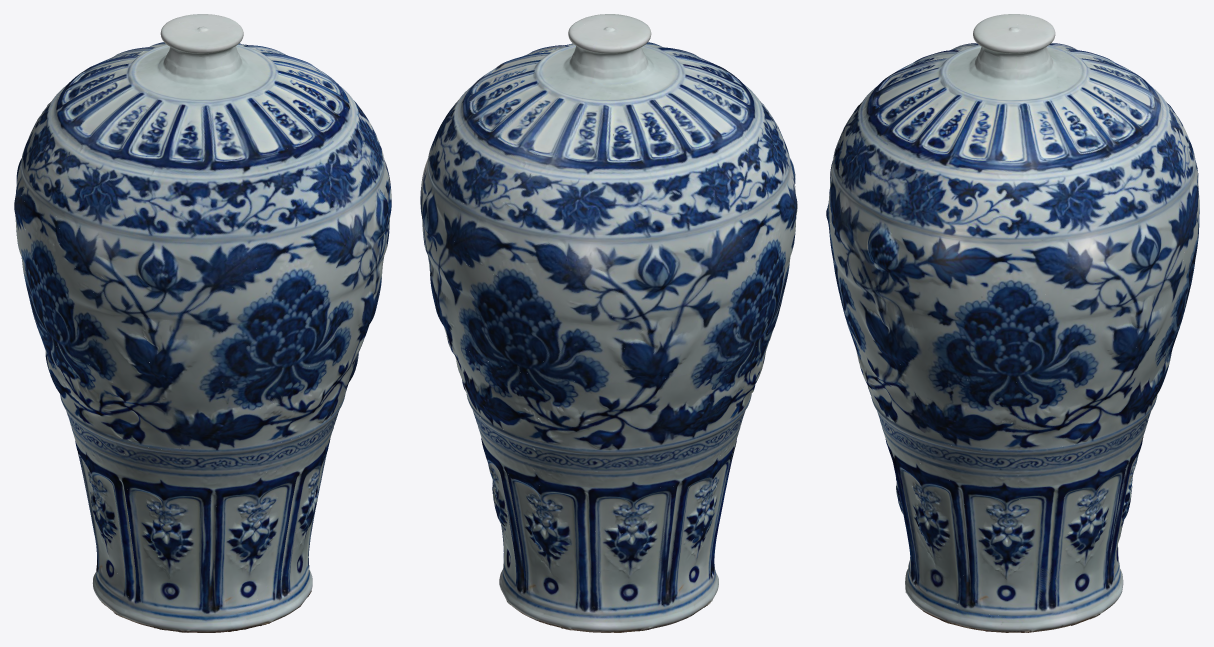
Rendered from yuan-qinghua-vase.glb.
The picture shows the model from 3 angles, left to right: view 1: azimuth 30°, elevation 25°; view 2: azimuth 150°, elevation 25°; view 3: azimuth 270°, elevation 25°; orthographic projection.
Visible parts, largest first — view 1: tripo_node_aef0c2bf-f080-458b-9e4d-4d5c26182755; view 2: tripo_node_aef0c2bf-f080-458b-9e4d-4d5c26182755; view 3: tripo_node_aef0c2bf-f080-458b-9e4d-4d5c26182755.
Boxes of the visible parts, <box> form: tripo_node_aef0c2bf-f080-458b-9e4d-4d5c26182755: <box>14,14,391,632</box>; tripo_node_aef0c2bf-f080-458b-9e4d-4d5c26182755: <box>420,14,797,632</box>; tripo_node_aef0c2bf-f080-458b-9e4d-4d5c26182755: <box>826,14,1199,632</box>.
Bounding box in the file's own units: 0.5836 × 0.9796 × 0.5859.
1 material, 1 textured.
